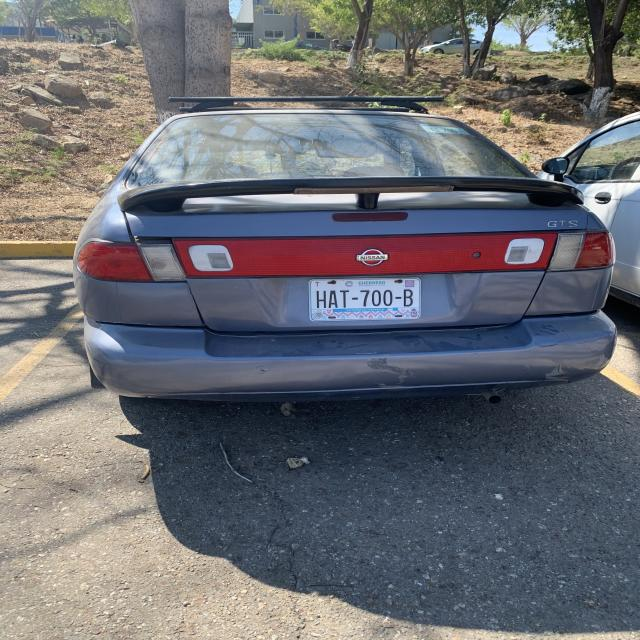placa: (310, 288, 419, 310)
